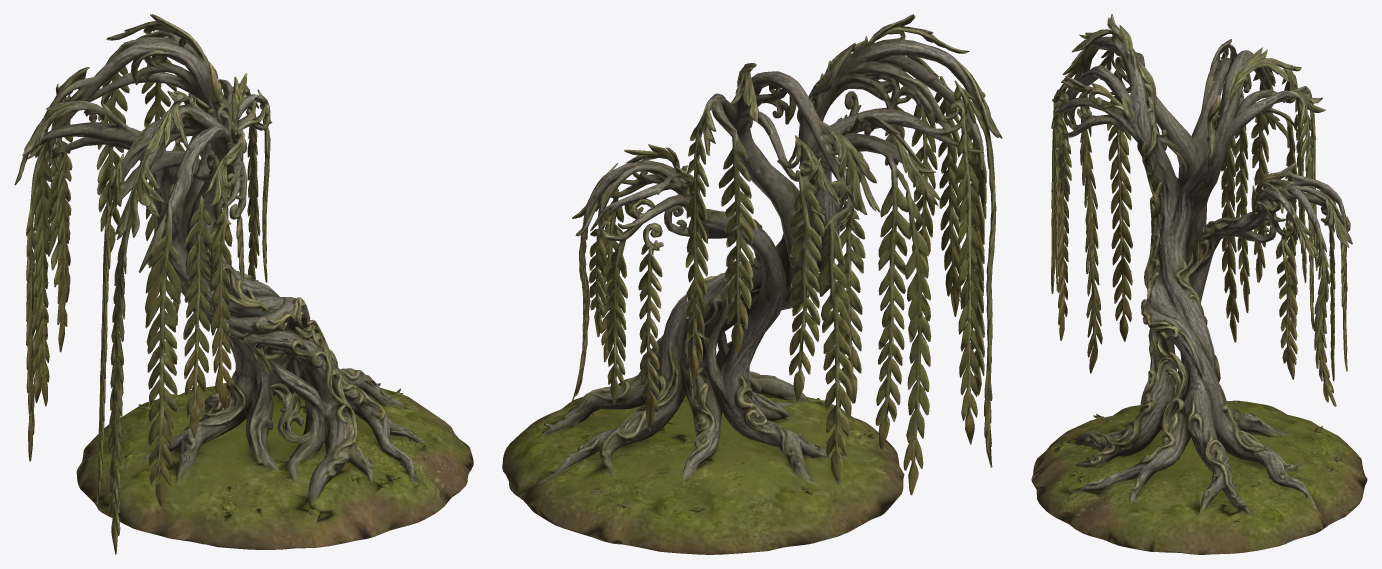
Rendered from marsh_willow.glb.
3 renders of one model, left to right at view 1: azimuth 30°, elevation 25°; view 2: azimuth 150°, elevation 25°; view 3: azimuth 270°, elevation 25°, orthographic. The views are drawn at different scales.
Visible parts, largest first — view 1: tripo_node_89f36420-3984-410c-8efb-7deab0aa3092; view 2: tripo_node_89f36420-3984-410c-8efb-7deab0aa3092; view 3: tripo_node_89f36420-3984-410c-8efb-7deab0aa3092.
Boxes of the visible parts, <box> form: tripo_node_89f36420-3984-410c-8efb-7deab0aa3092: <box>14,14,473,554</box>; tripo_node_89f36420-3984-410c-8efb-7deab0aa3092: <box>502,14,1002,554</box>; tripo_node_89f36420-3984-410c-8efb-7deab0aa3092: <box>1031,14,1367,554</box>.
Size of the model in its own units: 0.9541 by 0.9812 by 0.7482.
Materials: 1 (1 with a texture image).
